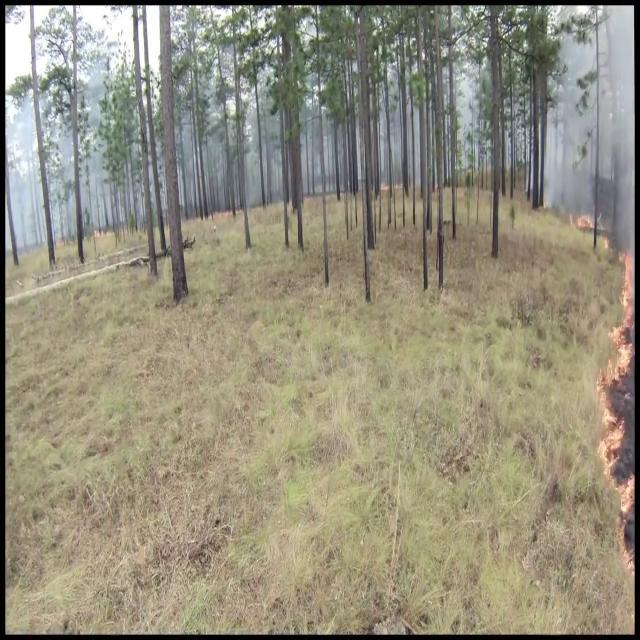Fire: (586, 241, 636, 579), (612, 246, 634, 382)
Smoke: (540, 8, 636, 240)
